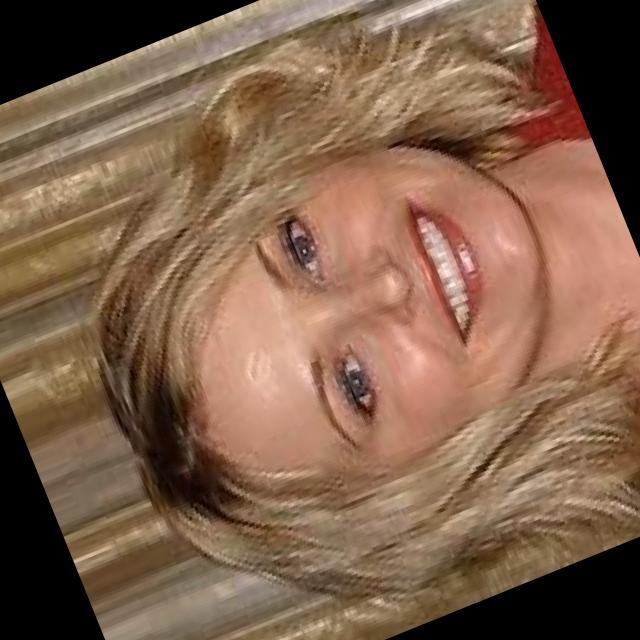bareface: (98, 45, 630, 612)
